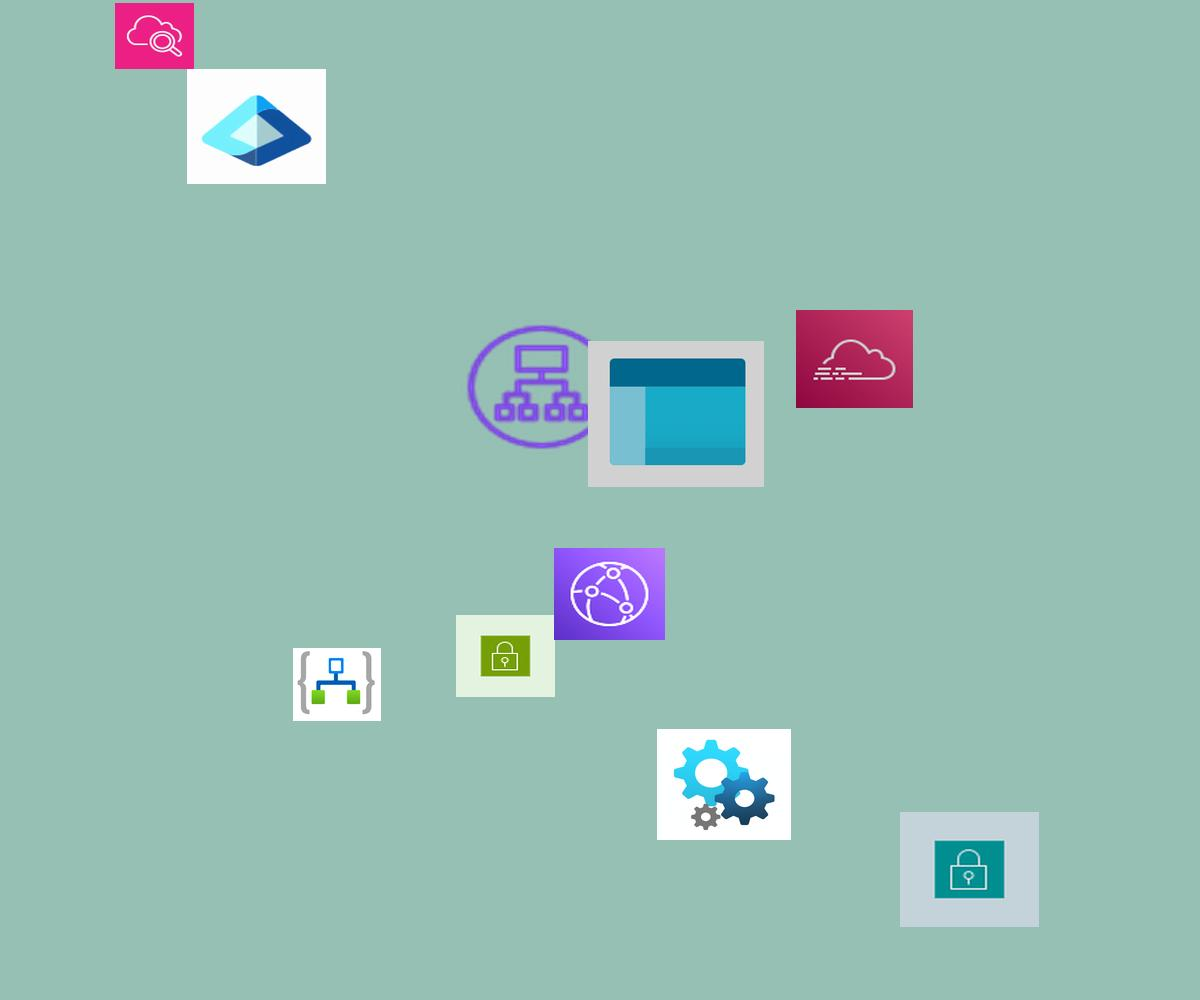AWS-CloudFront: (554, 548, 665, 640)
AWS-CloudTrail: (796, 310, 913, 408)
AWS-CloudWatch: (115, 3, 194, 69)
AWS-Private-subnet: (900, 812, 1039, 927)
AWS-Public-subnet: (456, 615, 555, 697)
AWS-Res_Elastic-Load-Balancing_Application-Load-Balancer: (461, 320, 622, 454)
Azure_api: (657, 729, 791, 840)
Azure_integration-204-Logic-Apps: (293, 648, 381, 721)
Azure_management-portal: (588, 341, 764, 487)
Azure_microsoft_entra: (187, 69, 326, 184)
